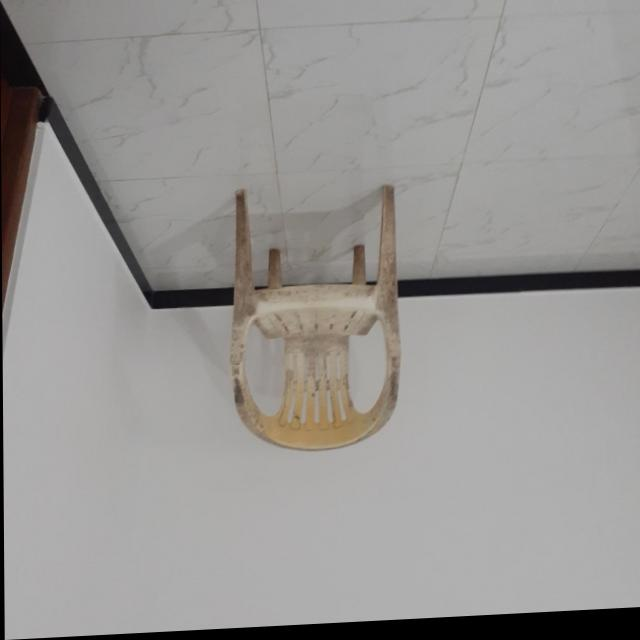Chair: (228, 181, 401, 458)
